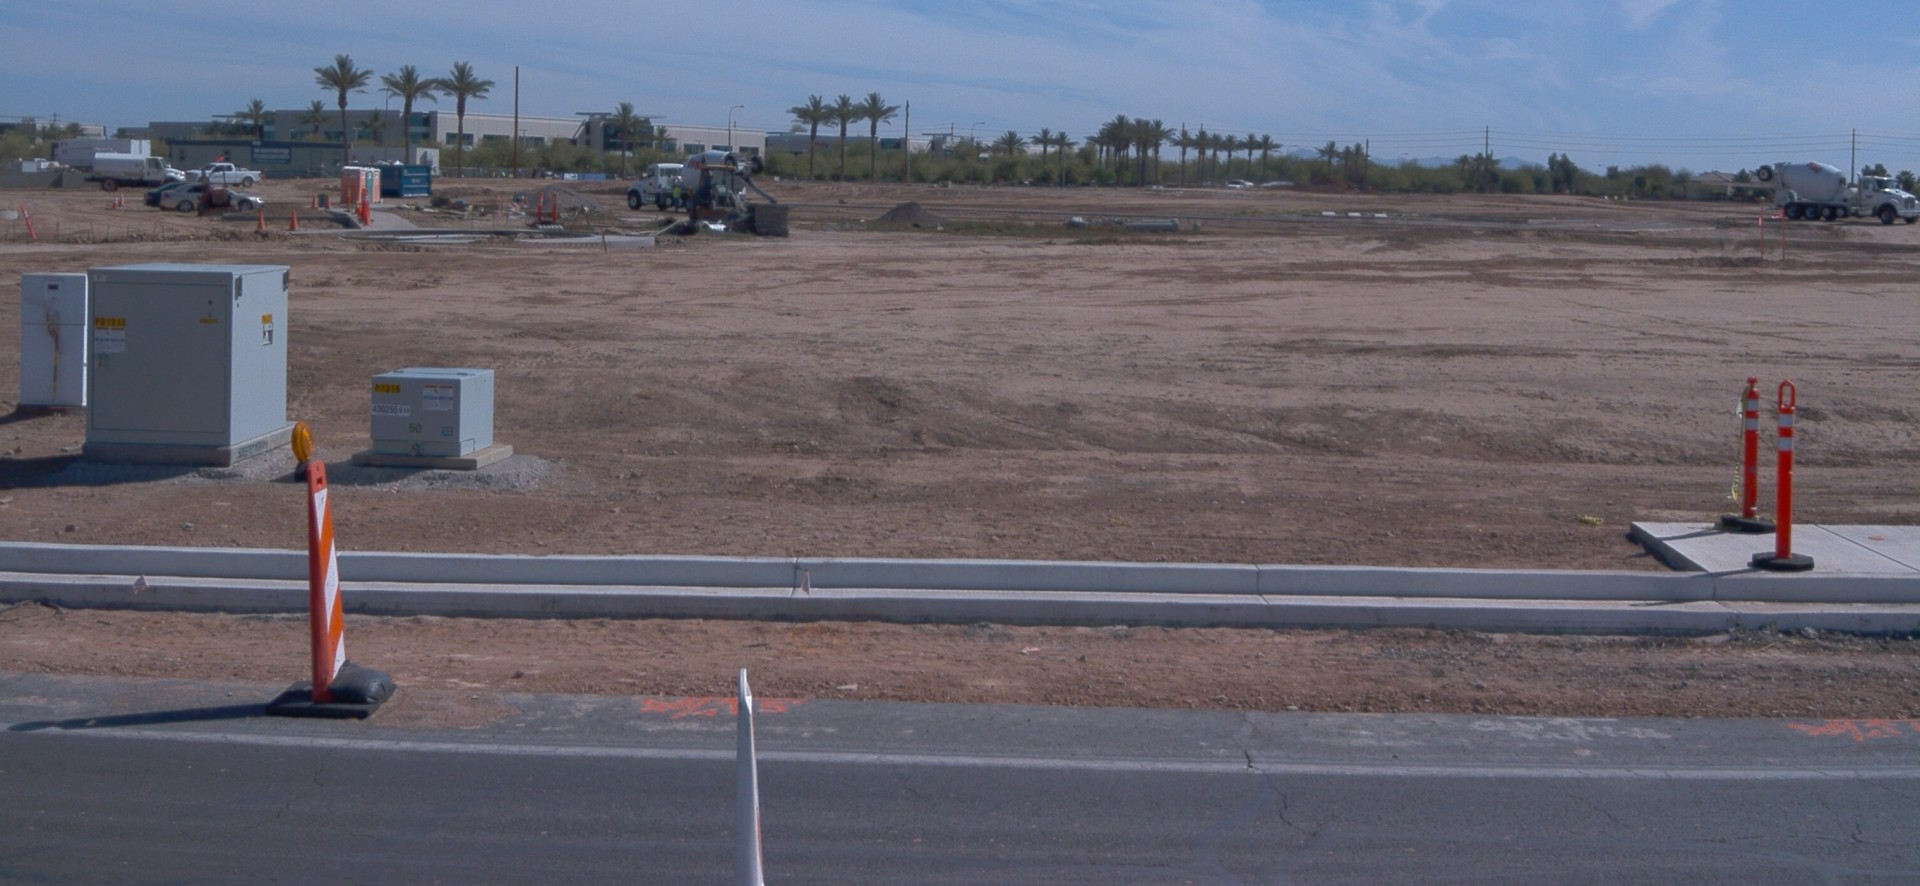TYPE_PEDESTRIAN: (671, 182, 684, 214)
TYPE_VEHICLE: (1750, 161, 1918, 228), (626, 149, 781, 212), (682, 160, 749, 231), (80, 152, 183, 192), (59, 137, 155, 178), (159, 180, 266, 214), (197, 160, 240, 219), (188, 159, 264, 190), (1, 147, 62, 175), (142, 186, 181, 210), (1227, 183, 1254, 194)
